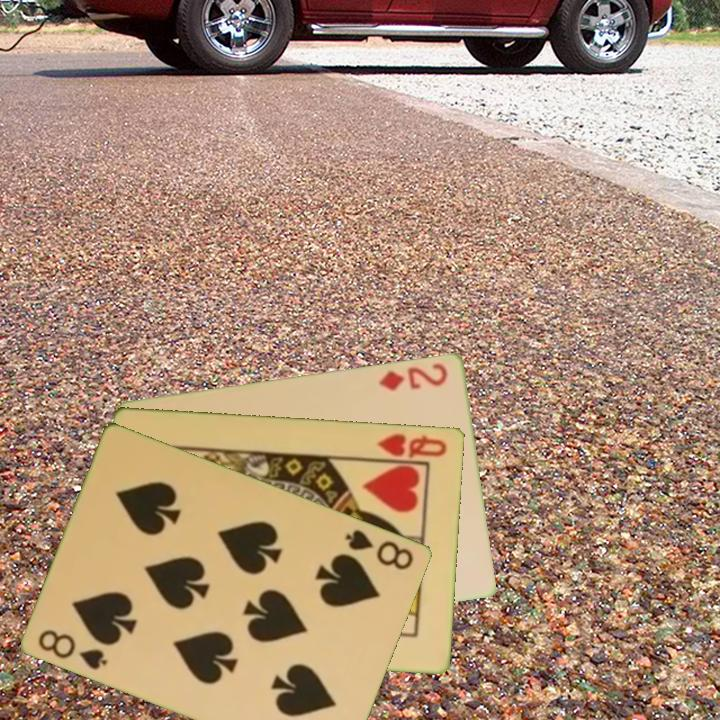2d: (375, 359, 451, 393)
8s: (35, 625, 111, 673), (342, 525, 417, 573)
Qh: (373, 429, 450, 461)
